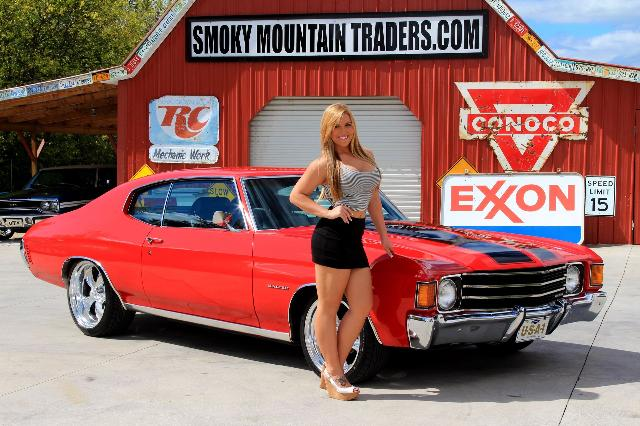chevelle-1972: (20, 167, 350, 376), (340, 192, 607, 384)
